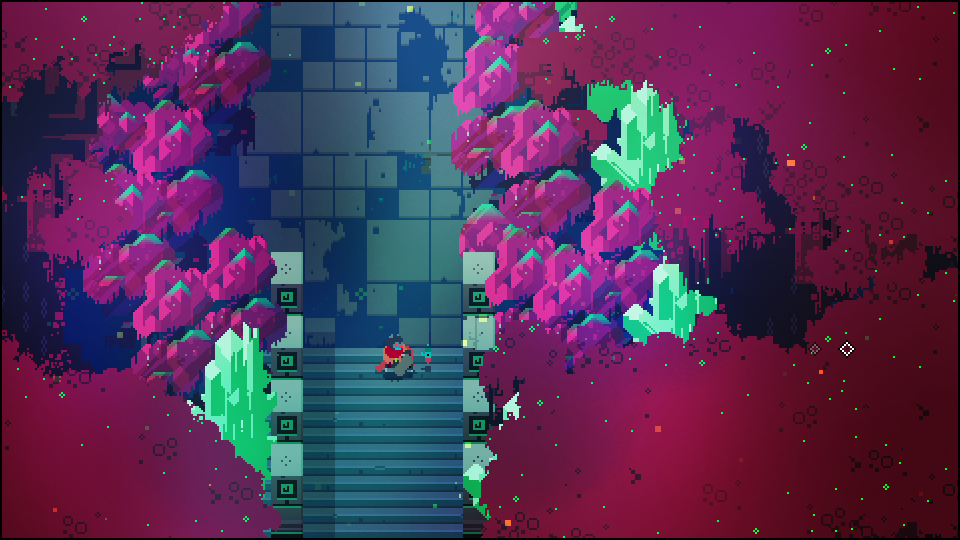player: (374, 334, 427, 385)
